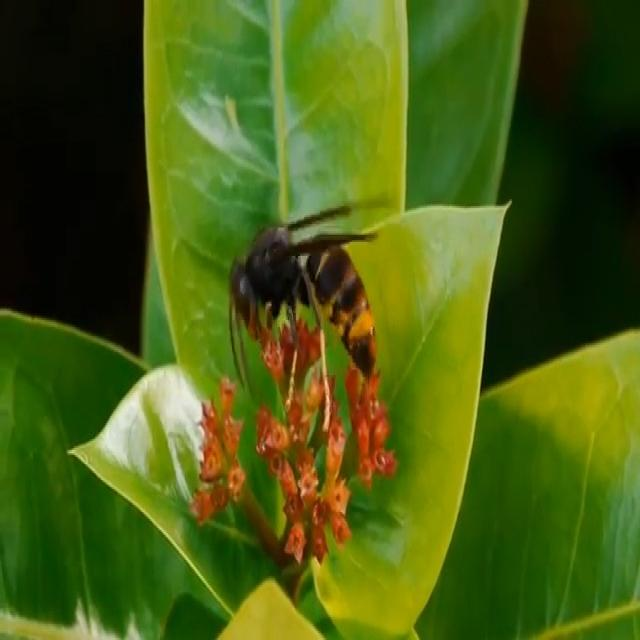Hornets: (224, 205, 383, 432)
